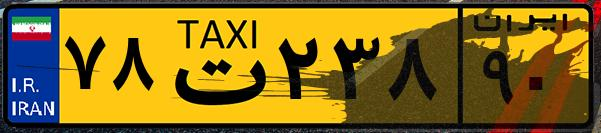0: (525, 38, 570, 115)
2: (270, 28, 330, 110)
3: (330, 28, 385, 110)
7: (57, 26, 110, 100)
8: (385, 28, 445, 110), (110, 28, 158, 98)
9: (475, 38, 525, 113)
ت: (158, 12, 270, 120)
